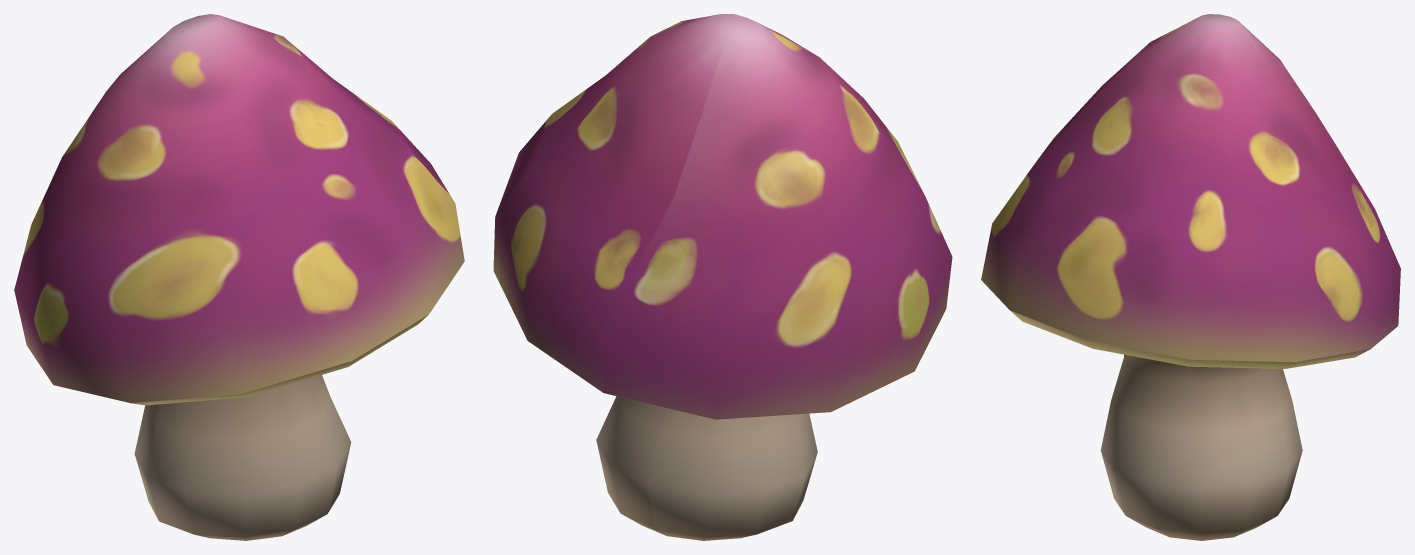
The model's file is mushroom3.FBX.
3 renders of one model, left to right at view 1: azimuth 30°, elevation 25°; view 2: azimuth 150°, elevation 25°; view 3: azimuth 270°, elevation 25°, orthographic. The views are drawn at different scales.
Parts seen in each view (by area): view 1: Object001; view 2: Object001; view 3: Object001.
Part boxes in pixels (x1=…): Object001: x1=14, y1=14, x2=464, y2=540; Object001: x1=493, y1=14, x2=952, y2=540; Object001: x1=981, y1=14, x2=1400, y2=540.
Bounding box in the file's own units: 37.26 × 44.62 × 35.54.
